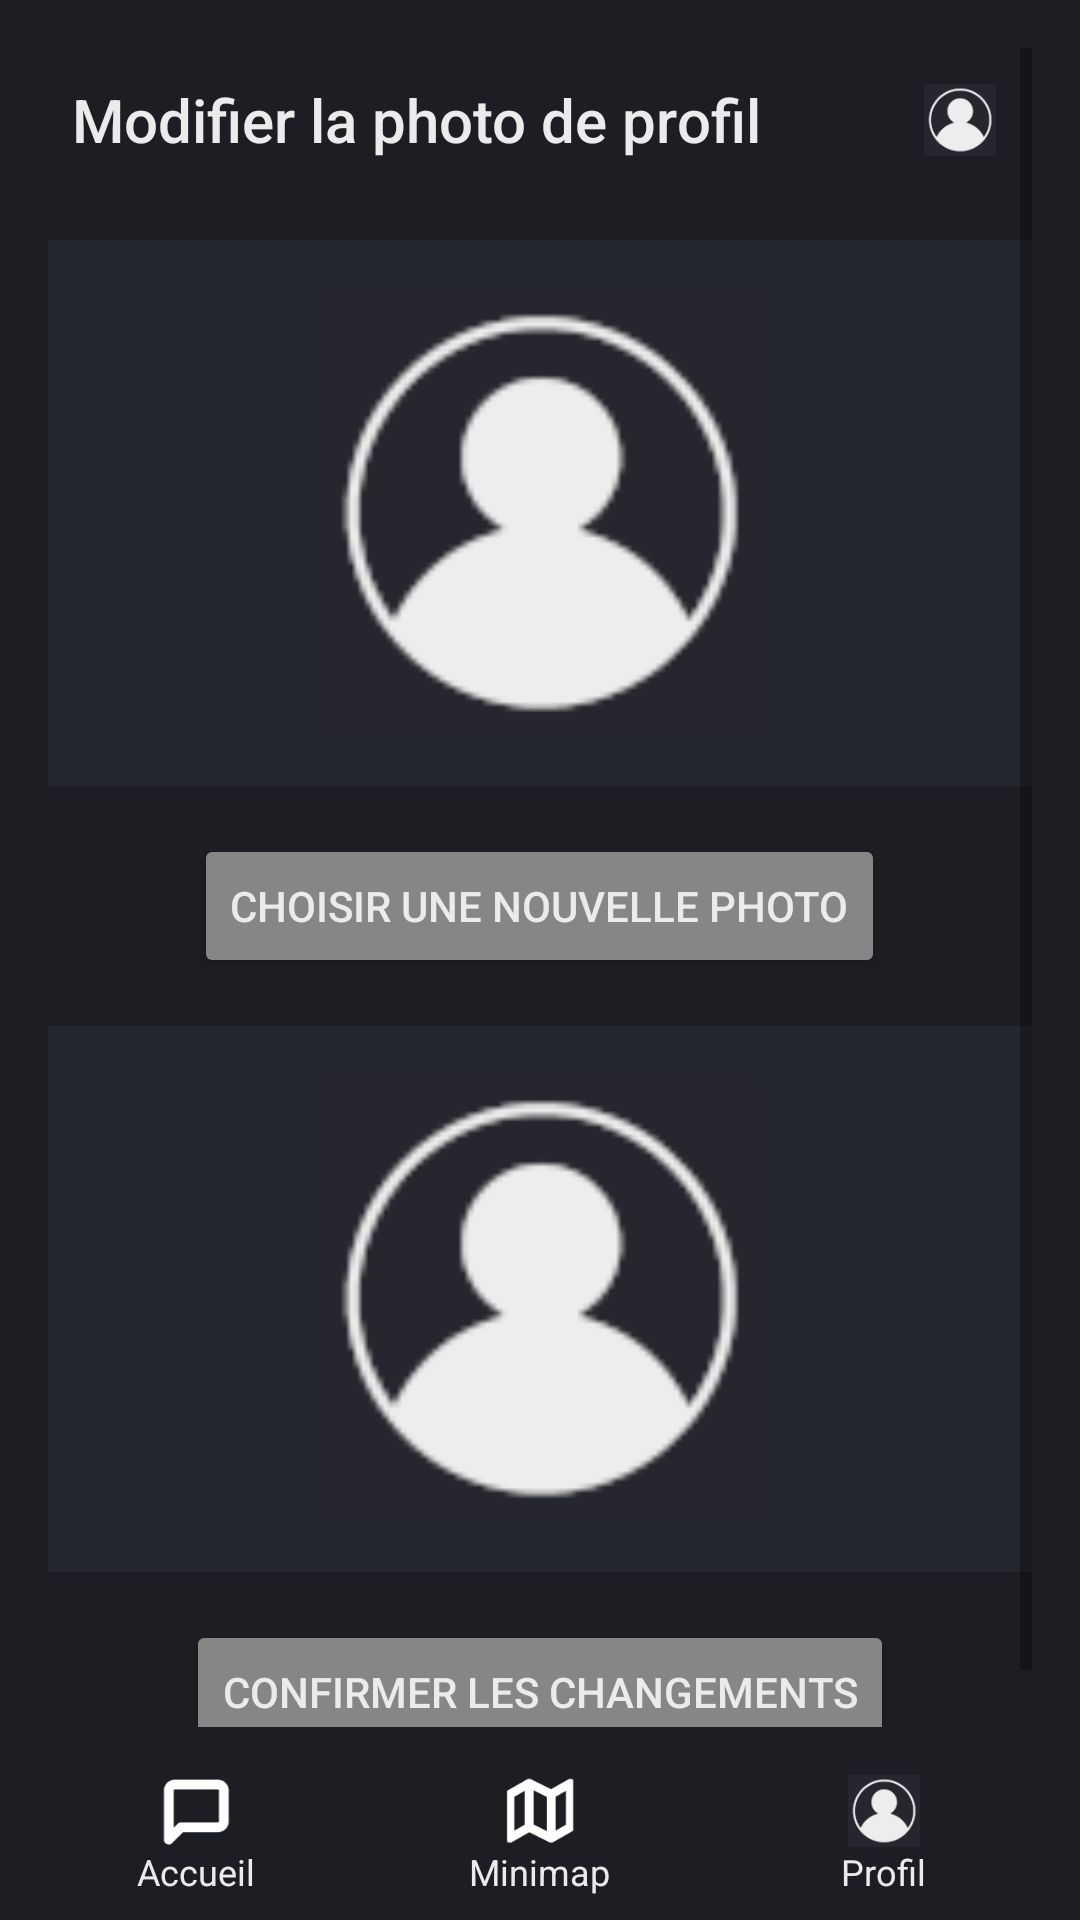

Screen size 1080w x 1920h. Icon name, then its box in pixels as (x1, y1, x2, y2):
Retour au profil: (928, 88, 992, 152)
